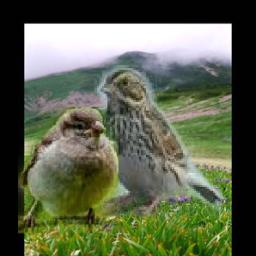Sparrow: (95, 65, 223, 216), (18, 107, 119, 233)
